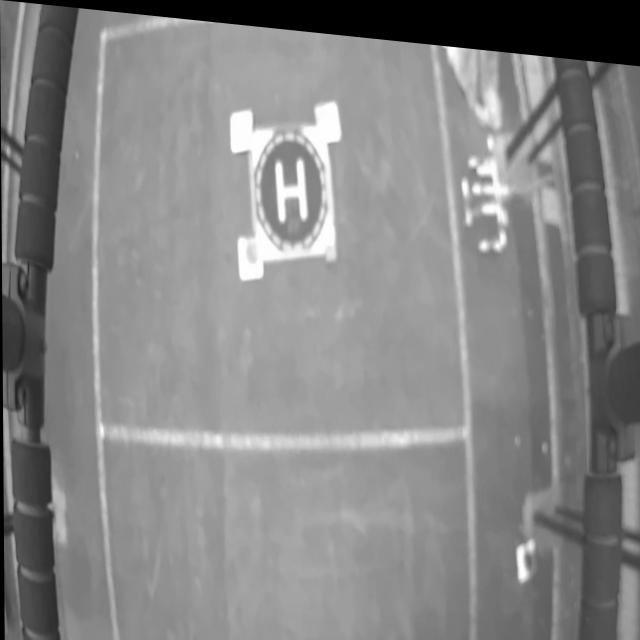Helipad: (274, 152, 309, 219)
